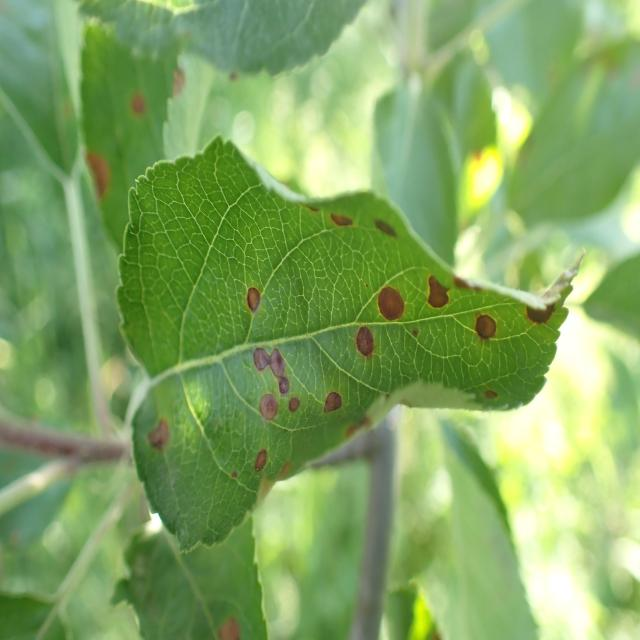Black Rot: (240, 339, 308, 422), (281, 185, 353, 247), (514, 274, 571, 352), (339, 301, 384, 385), (140, 403, 185, 466), (84, 134, 118, 212), (308, 372, 354, 429), (160, 35, 193, 113), (420, 258, 450, 332), (372, 268, 406, 333), (237, 433, 282, 482), (475, 303, 511, 361), (369, 210, 405, 260), (448, 263, 490, 300), (123, 90, 161, 130), (232, 279, 271, 317), (471, 383, 514, 410), (213, 608, 247, 640), (222, 458, 240, 486)
